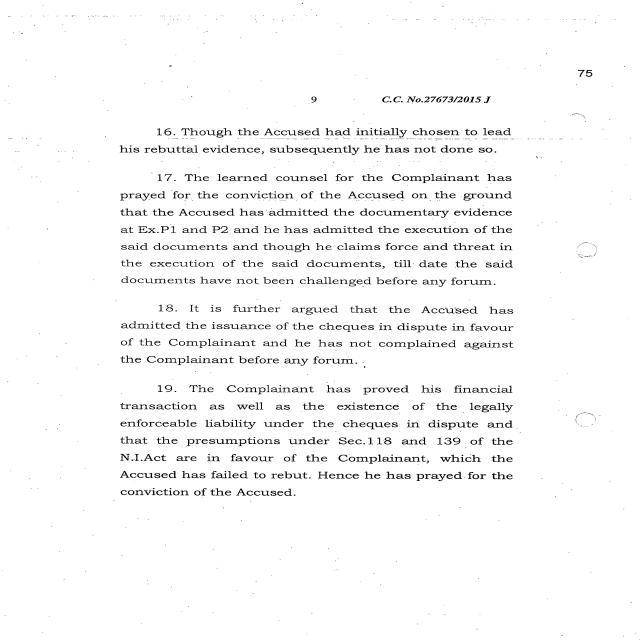page-number: (494, 27, 640, 108)
